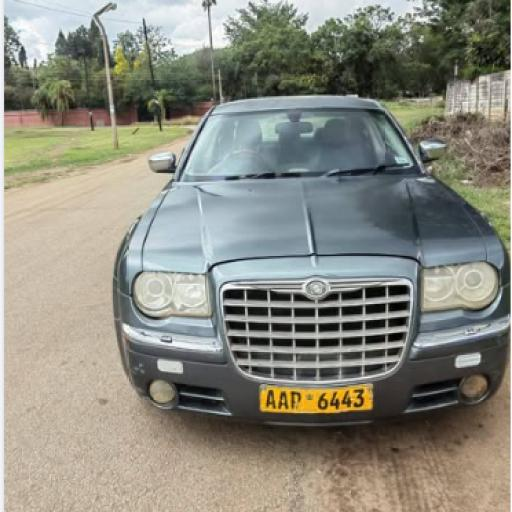number-plates: (260, 385, 368, 414)
